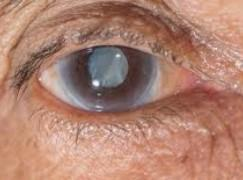eye: (64, 44, 157, 109)
